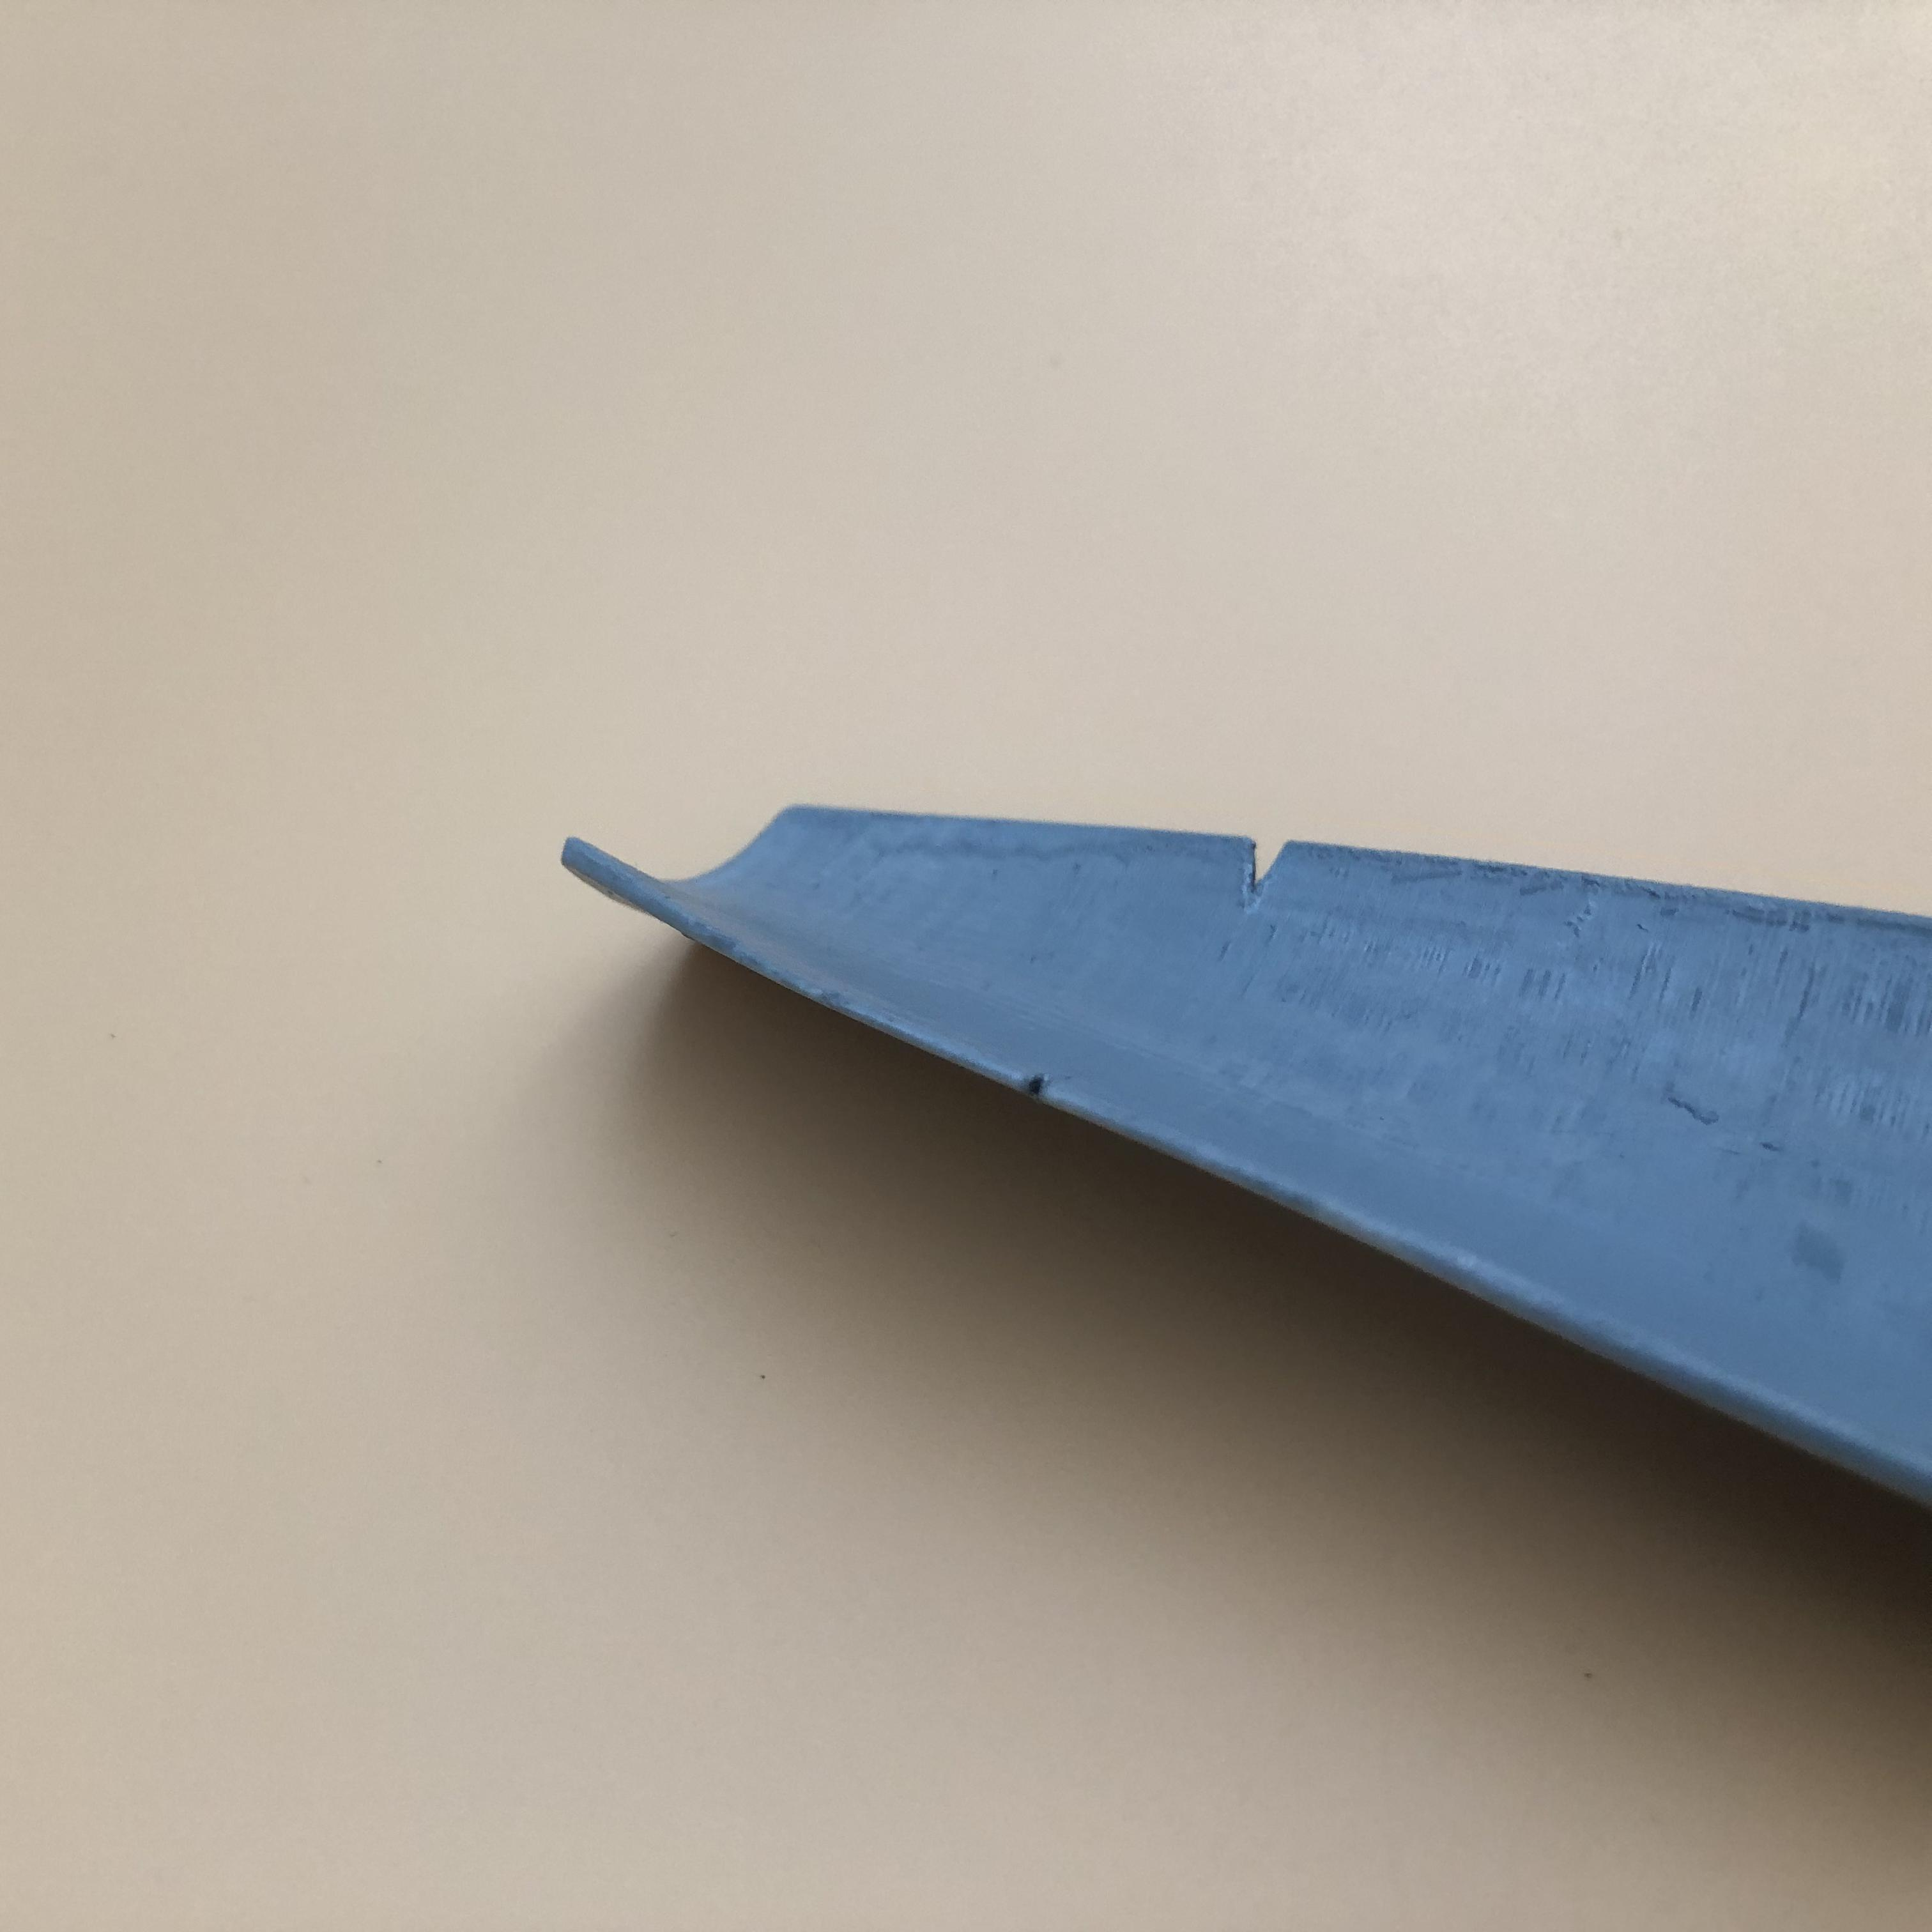groove: (1237, 837, 1313, 897), (1014, 1063, 1072, 1113)
